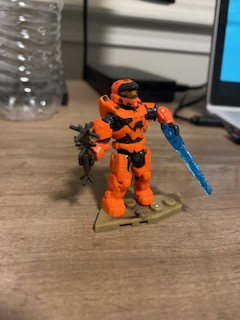spartan: (77, 76, 178, 220)
